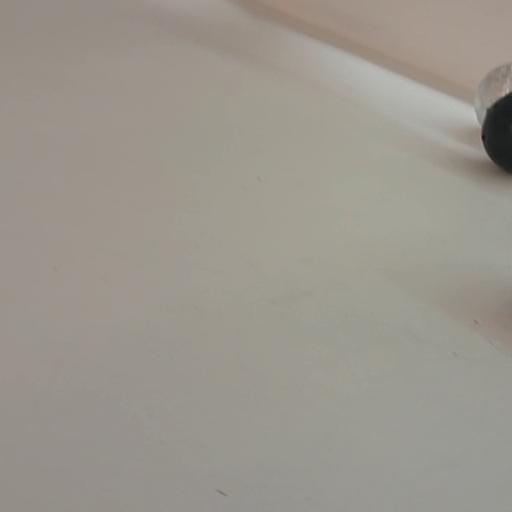alive: (474, 62, 512, 130)
dead: (481, 90, 512, 170)
